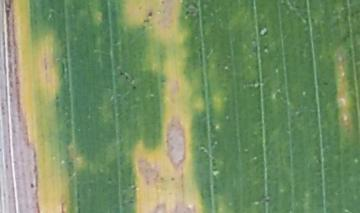tarspot: (146, 11, 156, 19), (27, 180, 35, 189), (130, 84, 139, 92), (124, 74, 131, 81), (119, 70, 126, 77)
